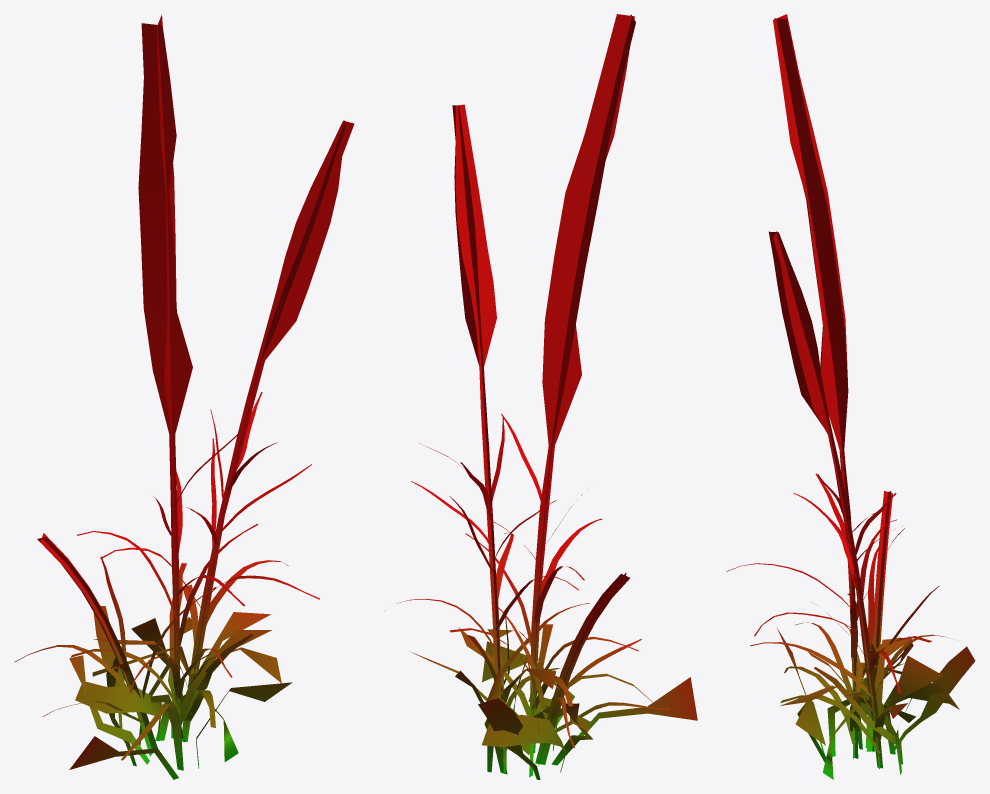
The model's file is Var5_LOD1.fbx.
3 renders of one model, left to right at view 1: azimuth 30°, elevation 25°; view 2: azimuth 150°, elevation 25°; view 3: azimuth 270°, elevation 25°, orthographic. The views are drawn at different scales.
Visible parts, largest first — view 1: _d146_Var5_LOD1; view 2: _d146_Var5_LOD1; view 3: _d146_Var5_LOD1.
Part boxes in pixels (bbox=[...]): _d146_Var5_LOD1: bbox=[14, 14, 354, 779]; _d146_Var5_LOD1: bbox=[396, 14, 697, 779]; _d146_Var5_LOD1: bbox=[726, 14, 975, 779].
Bounding box in the file's own units: 18.79 × 50.68 × 15.86.
